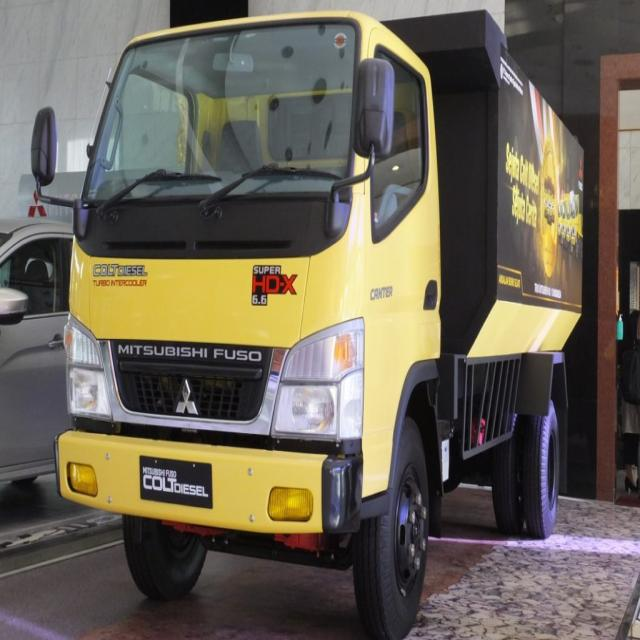truck: (29, 10, 582, 639)
